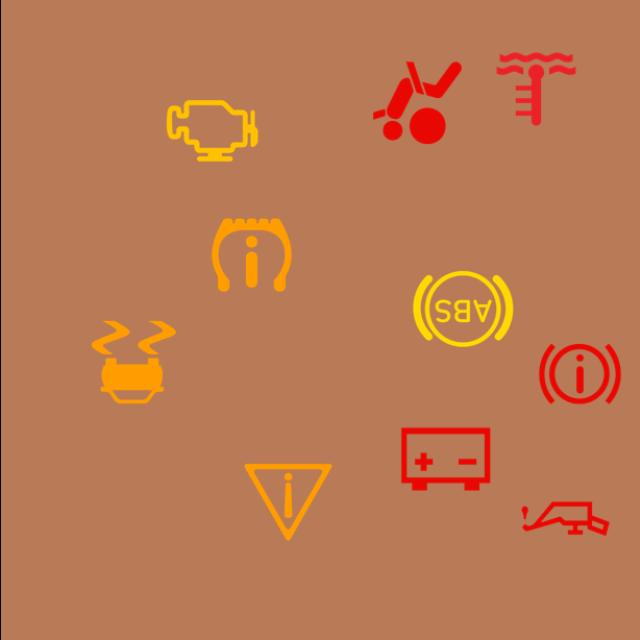Anti Lock Braking System: (408, 254, 518, 364)
Braking System Issue: (524, 318, 634, 428)
Charging System Issue: (390, 404, 500, 514)
Check Engine: (156, 76, 266, 186)
Electronic Stability Problem -ESP-: (78, 307, 188, 417)
Engine Overheating Warning Light: (480, 34, 590, 144)
Low Engine Oil Warning Light: (510, 464, 620, 574)
Low Tire Pressure Warning Light: (196, 200, 306, 310)
Master warning light: (232, 447, 342, 557)
SRS-Airbag: (362, 48, 472, 158)
